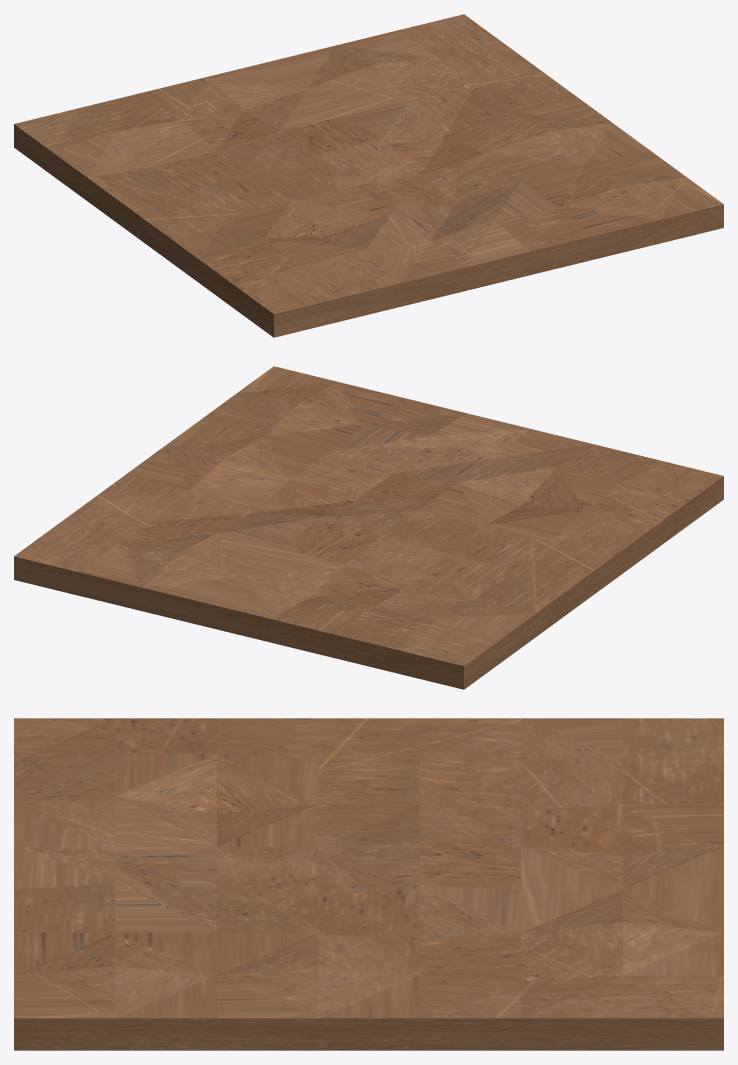
File: floor3.fbx
3 renders of one model, top to bottom at view 1: azimuth 30°, elevation 25°; view 2: azimuth 150°, elevation 25°; view 3: azimuth 270°, elevation 25°, orthographic. The views are drawn at different scales.
Parts seen in each view (by area): view 1: Cube.001; view 2: Cube.001; view 3: Cube.001.
Boxes of the visible parts, x1,y1,x2,y2 form: Cube.001: (14,14,723,337); Cube.001: (14,366,723,689); Cube.001: (14,718,723,1050).
Size of the model in its own units: 400 by 26.82 by 400.
Materials: 1 (1 with a texture image).
